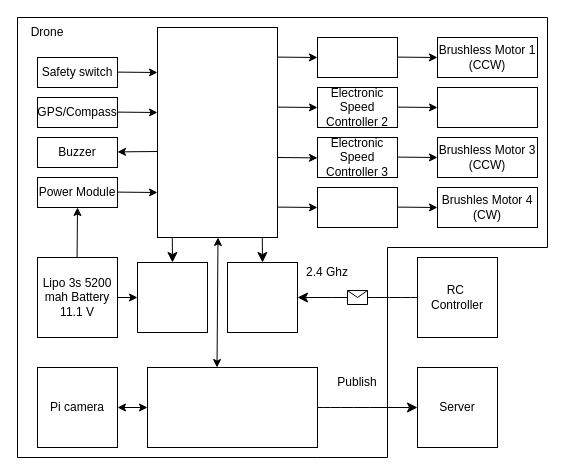
Image size: 566x476. Some labels were removed from this diagram. The shapes that lost their labels are listed below. From the top down, each one's centre as x and y in pixels, then its label:
At (357,57): "Electronic Speed Controller 1".
At (487,107): "Brushless Motor 2 (CW)".
At (217,132): "Flight Controller (Pixhawk 2.4.8)".
At (357,207): "Electronic Speed Controller 4".
At (172,297): "Ubec 5v".
At (262,297): "Radio Receiver".
At (232,407): "Raspberry Pi 4b".
